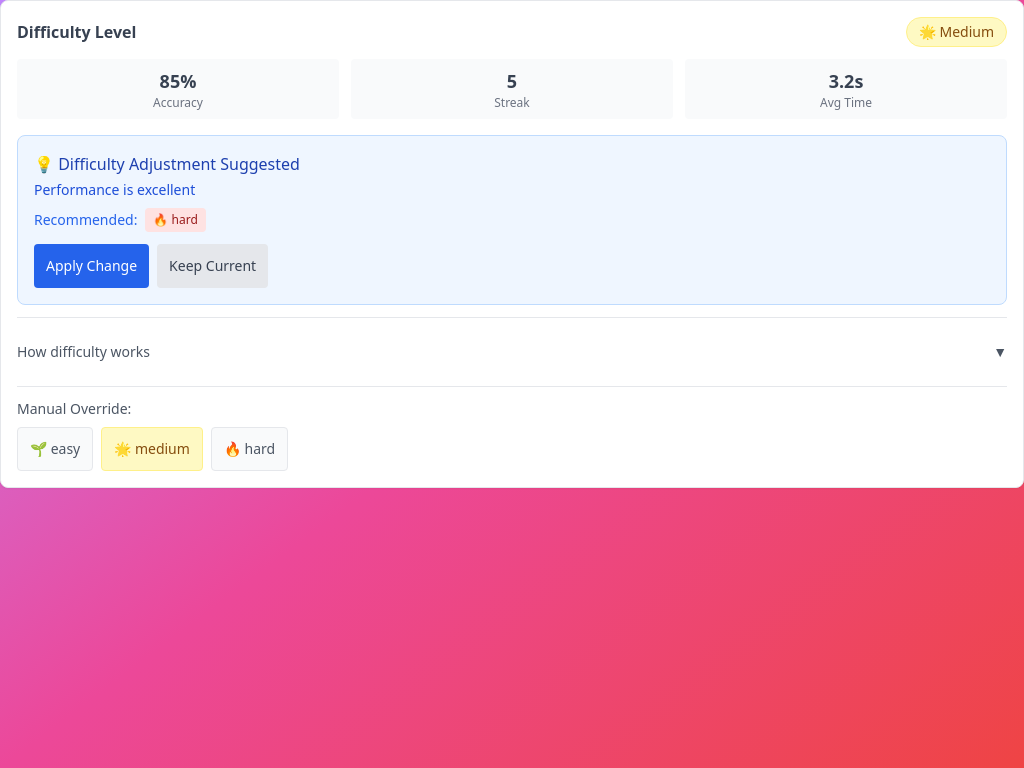
Test: AdaptiveDifficultyIndicator › Difficulty Adjustment Recommendations › should handle keep current button click
The image size is (1024, 768).
Click the button "Keep Current".
click(213, 266)  # box top-left (157, 244), bottom-right (268, 288)
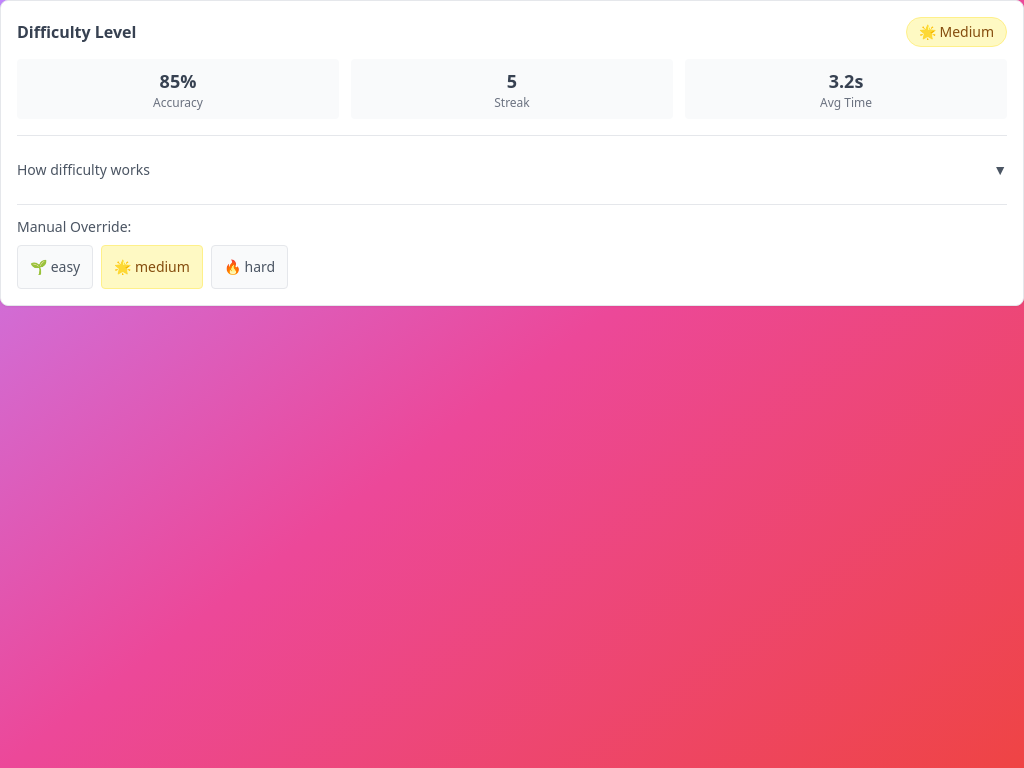
Expected: the heading "💡 Difficulty Adjustment Suggested" is gone
